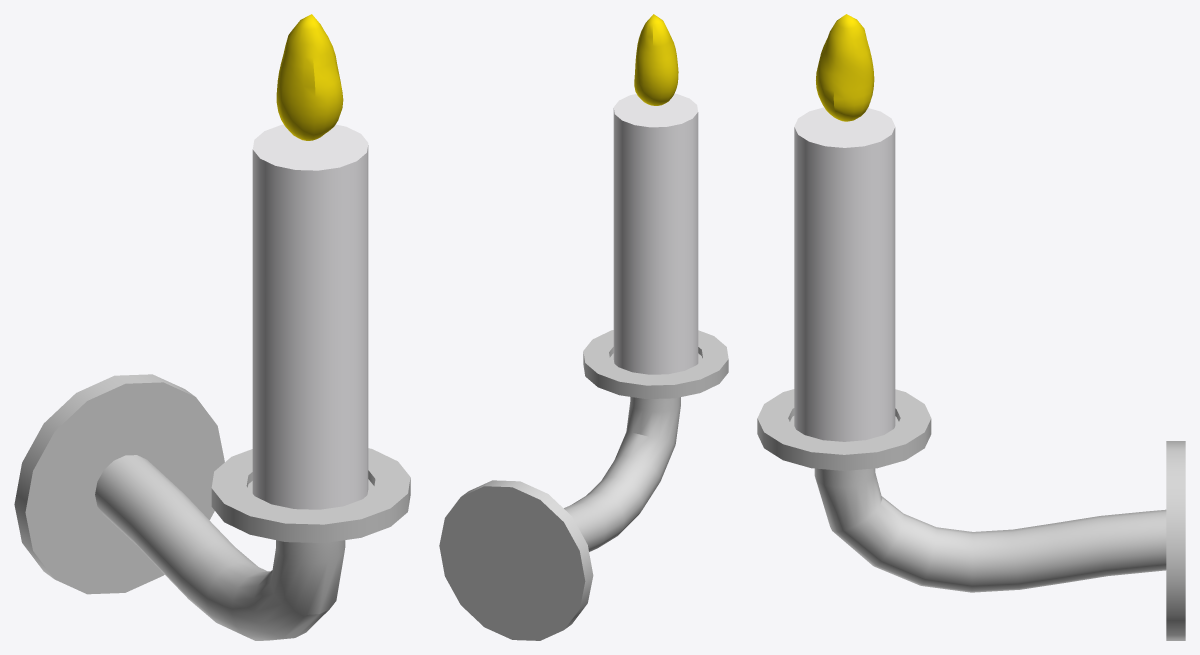
The model's file is SafeZone_Candle.fbx.
3 views of the same model, side by side, from view 1: azimuth 30°, elevation 25°; view 2: azimuth 150°, elevation 25°; view 3: azimuth 270°, elevation 25° (orthographic). The views are drawn at different scales.
Parts seen in each view (by area): view 1: SafeZone_Candle; view 2: SafeZone_Candle; view 3: SafeZone_Candle.
Boxes of the visible parts, <box> form: SafeZone_Candle: <box>14,14,410,640</box>; SafeZone_Candle: <box>439,14,728,640</box>; SafeZone_Candle: <box>757,14,1185,640</box>.
Size of the model in its own units: 0.1065 by 0.3634 by 0.2279.
